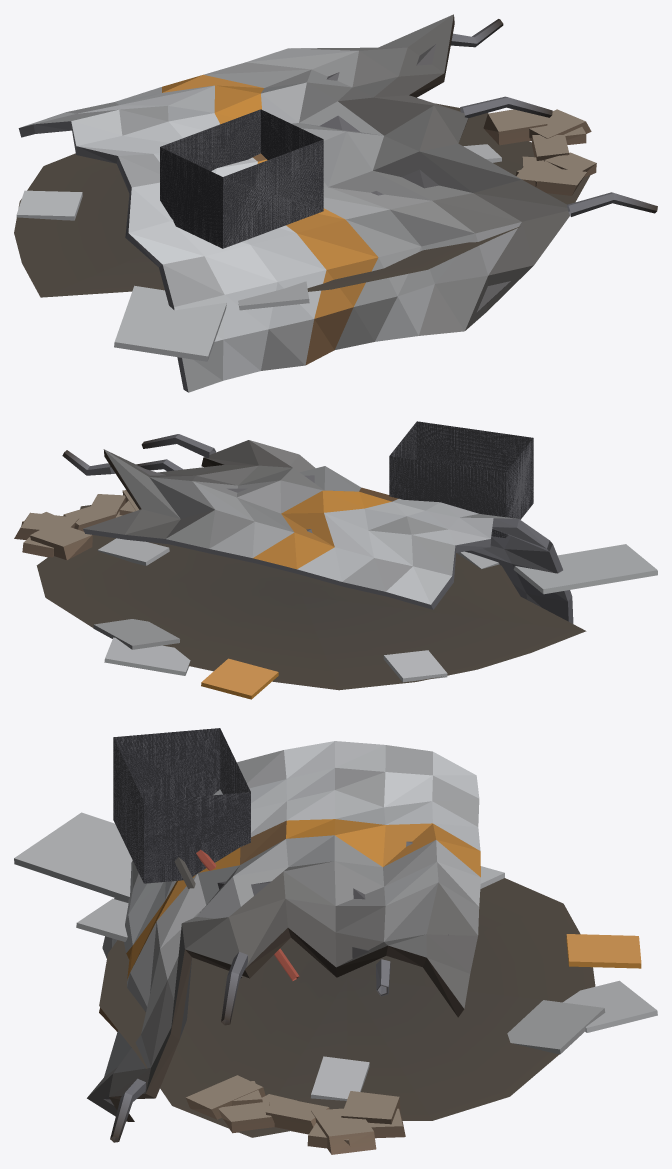
File: wreck_battery_searched_a.glb
3 renders of one model, top to bottom at view 1: azimuth 30°, elevation 25°; view 2: azimuth 150°, elevation 25°; view 3: azimuth 270°, elevation 25°, orthographic. The views are drawn at different scales.
Parts seen in each view (by area): view 1: wreck_battery_searched_a; view 2: wreck_battery_searched_a; view 3: wreck_battery_searched_a.
Part boxes in pixels (x1,y1,x2,y2): wreck_battery_searched_a: (14, 14, 657, 392); wreck_battery_searched_a: (14, 421, 657, 699); wreck_battery_searched_a: (14, 728, 657, 1154).
Size of the model in its own units: 3.42 by 1.14 by 2.83.
